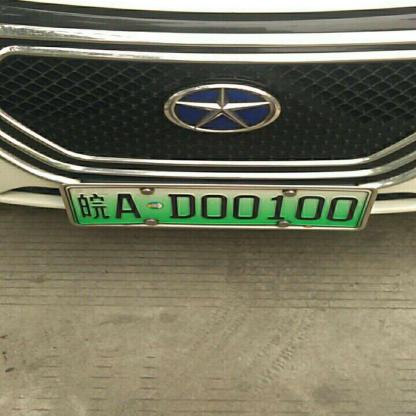lp: (60, 186, 369, 228)
